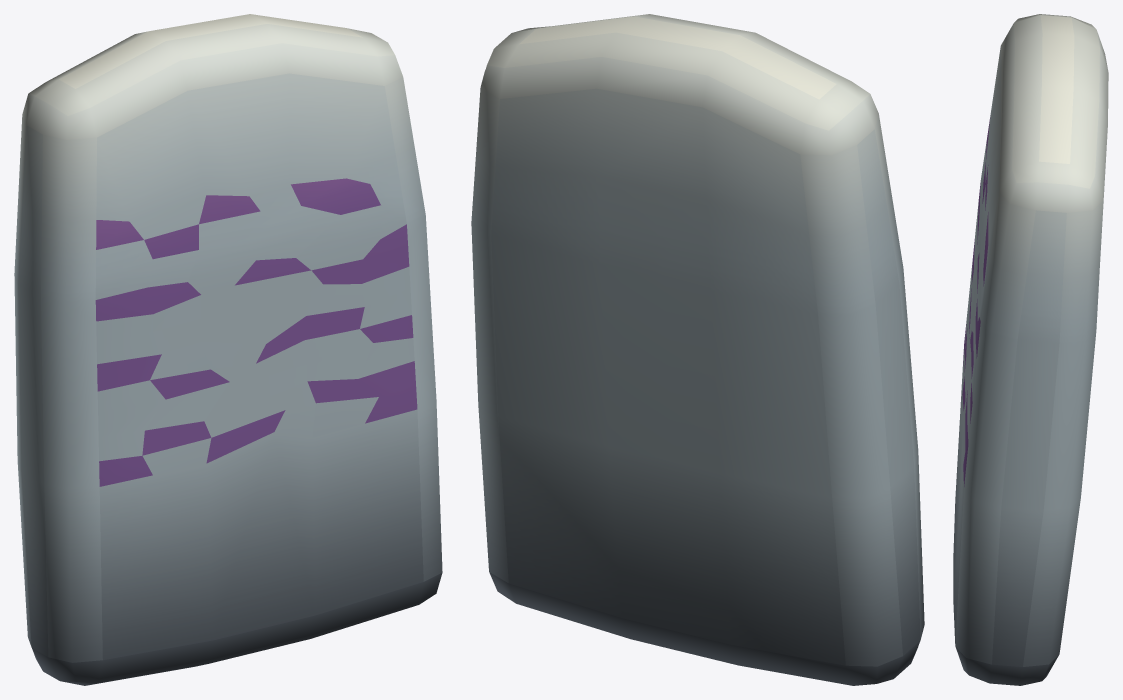
File: AncientTablet.fbx
3 views of the same model, side by side, from view 1: azimuth 30°, elevation 25°; view 2: azimuth 150°, elevation 25°; view 3: azimuth 270°, elevation 25° (orthographic). The views are drawn at different scales.
Parts seen in each view (by area): view 1: AncientTablet_LOD0; view 2: AncientTablet_LOD0; view 3: AncientTablet_LOD0.
Part boxes in pixels (<box>): AncientTablet_LOD0: <box>14,14,442,685</box>; AncientTablet_LOD0: <box>471,14,924,685</box>; AncientTablet_LOD0: <box>953,14,1108,685</box>.
Size of what is drawn, in the model's own units: 0.5679 by 0.8434 by 0.2109.
